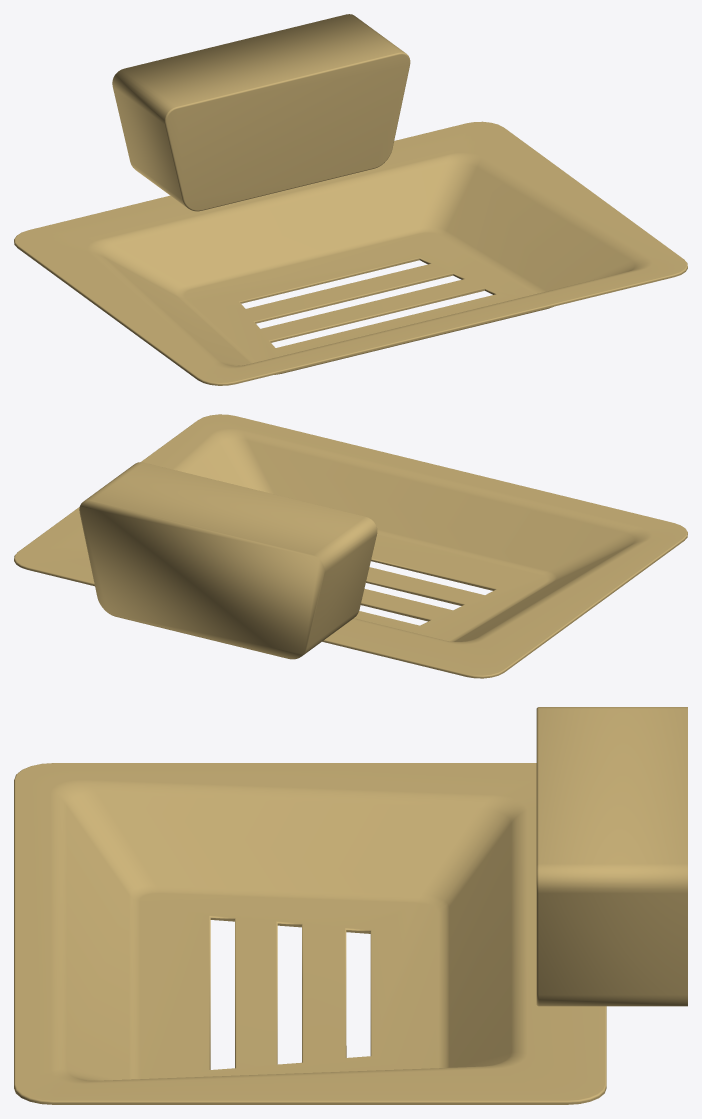
File: Soap-Dish.glb
3 renders of one model, top to bottom at view 1: azimuth 30°, elevation 25°; view 2: azimuth 150°, elevation 25°; view 3: azimuth 270°, elevation 25°, orthographic. The views are drawn at different scales.
Visible parts, largest first — view 1: Plane, Plane.001; view 2: Plane, Plane.001; view 3: Plane, Plane.001.
Boxes of the visible parts, x1,y1,x2,y2 form: Plane: [14, 121, 687, 385]; Plane.001: [112, 14, 410, 211]; Plane: [14, 414, 687, 678]; Plane.001: [79, 462, 377, 659]; Plane: [14, 763, 606, 1104]; Plane.001: [536, 707, 687, 1006].
Size of the model in its own units: 1.36 by 0.4152 by 1.14.
